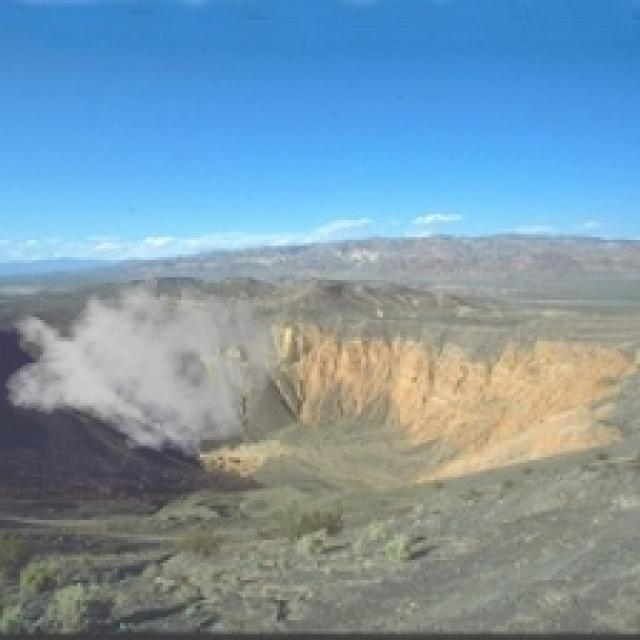smoke: (3, 263, 286, 463)
